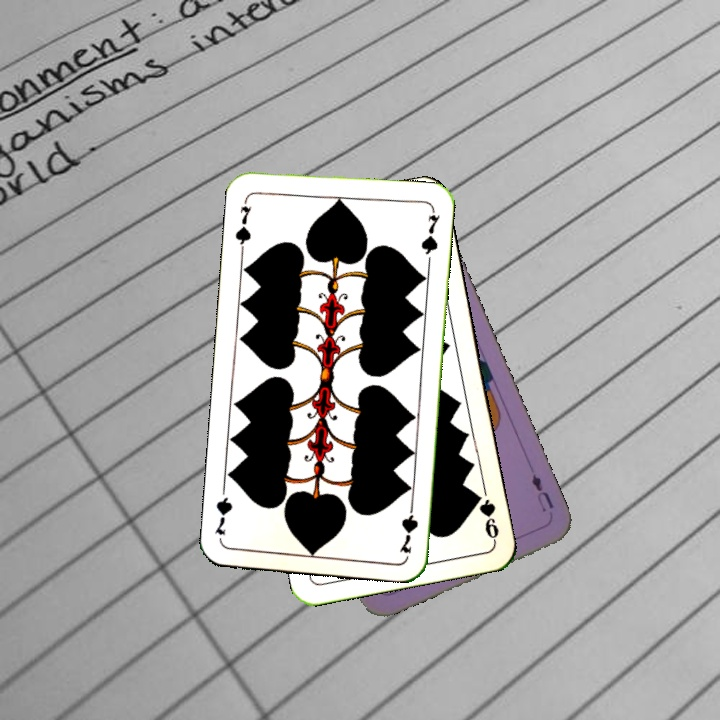EU: (527, 469, 557, 512)
G7: (395, 497, 421, 556), (231, 194, 254, 253)
G9: (469, 488, 501, 544)
